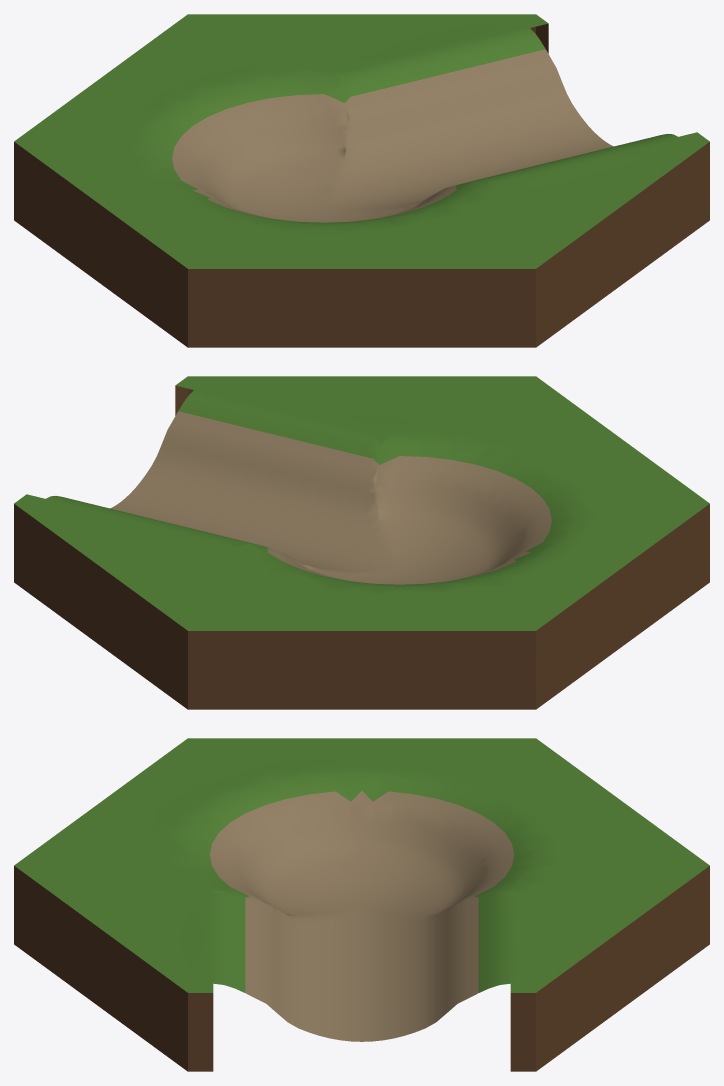
Rendered from river_spring_base.glb.
3 views of the same model, one above another, from view 1: azimuth 30°, elevation 25°; view 2: azimuth 150°, elevation 25°; view 3: azimuth 270°, elevation 25° (orthographic).
Visible parts, largest first — view 1: river_spring_base_lod0; view 2: river_spring_base_lod0; view 3: river_spring_base_lod0.
Boxes of the visible parts, left/top/right/bottom form: river_spring_base_lod0: left=14, top=14, right=709, bottom=347; river_spring_base_lod0: left=14, top=376, right=709, bottom=709; river_spring_base_lod0: left=14, top=738, right=709, bottom=1071.
Size of what is drawn, in the model's own units: 27.71 by 4 by 32.
